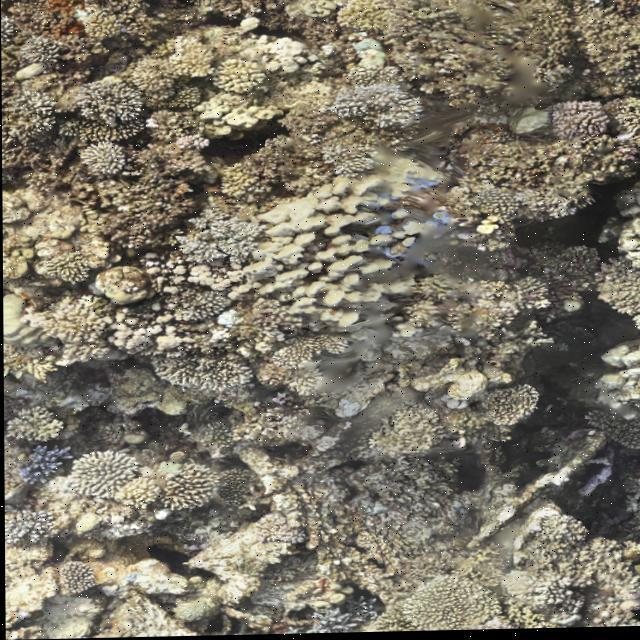Bleached Coral: (331, 82, 416, 134), (8, 438, 78, 489), (3, 510, 49, 547)
